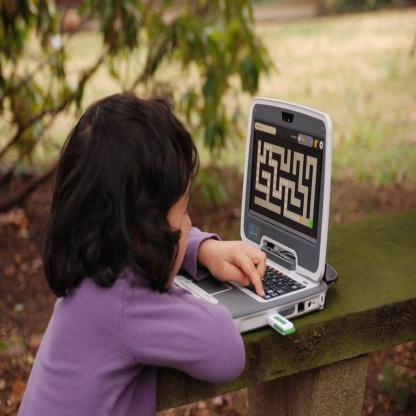board: (172, 96, 336, 333)
